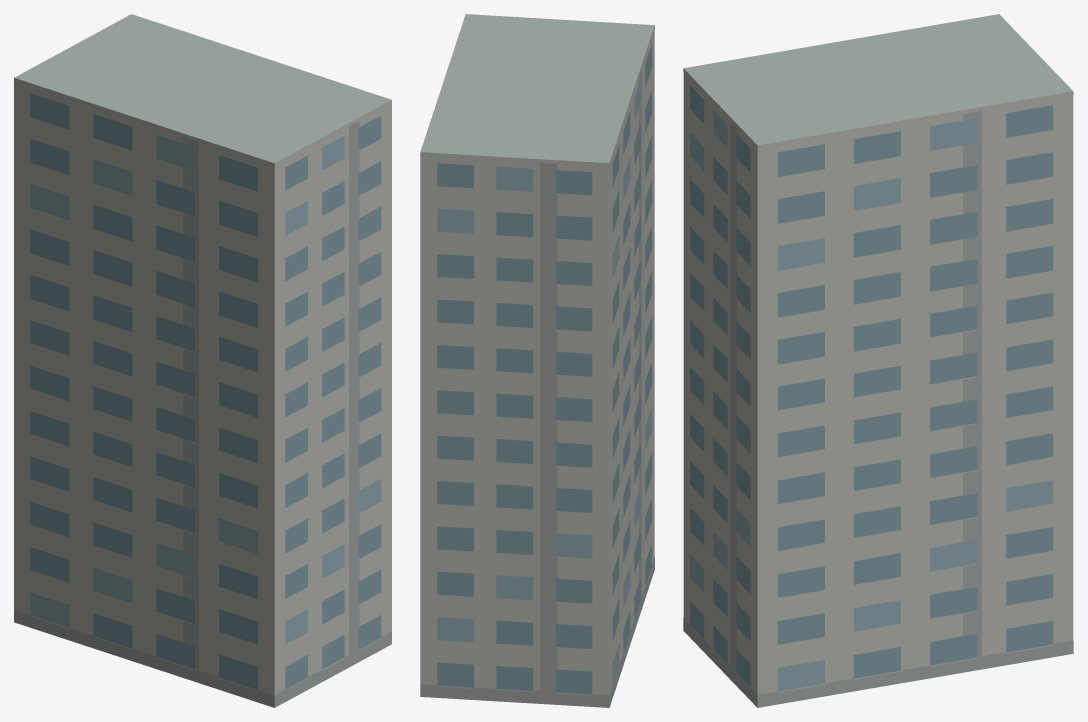
The model's file is residential-f9f5c068-7c87-4f3b-8c92-aa35aec4c4e4.glb.
3 views of the same model, side by side, from view 1: azimuth 30°, elevation 25°; view 2: azimuth 150°, elevation 25°; view 3: azimuth 270°, elevation 25° (orthographic). The views are drawn at different scales.
Parts seen in each view (by area): view 1: residential-f9f5c068-7c87-4f3b-8c92-aa35aec4c4e4.tmp; view 2: residential-f9f5c068-7c87-4f3b-8c92-aa35aec4c4e4.tmp; view 3: residential-f9f5c068-7c87-4f3b-8c92-aa35aec4c4e4.tmp.
Part boxes in pixels (x1=…): residential-f9f5c068-7c87-4f3b-8c92-aa35aec4c4e4.tmp: x1=14, y1=14, x2=391, y2=707; residential-f9f5c068-7c87-4f3b-8c92-aa35aec4c4e4.tmp: x1=420, y1=14, x2=654, y2=707; residential-f9f5c068-7c87-4f3b-8c92-aa35aec4c4e4.tmp: x1=683, y1=14, x2=1073, y2=707.
Bounding box in the file's own units: 18.05 × 36 × 22.63.
